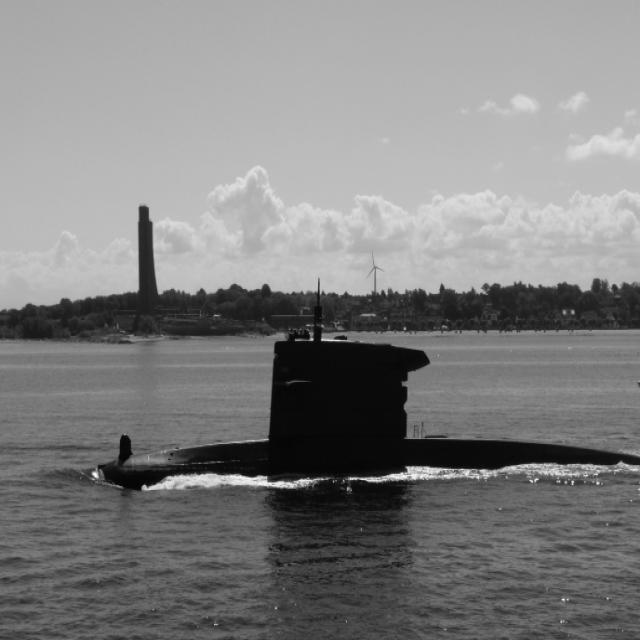submarine: (96, 327, 640, 490)
